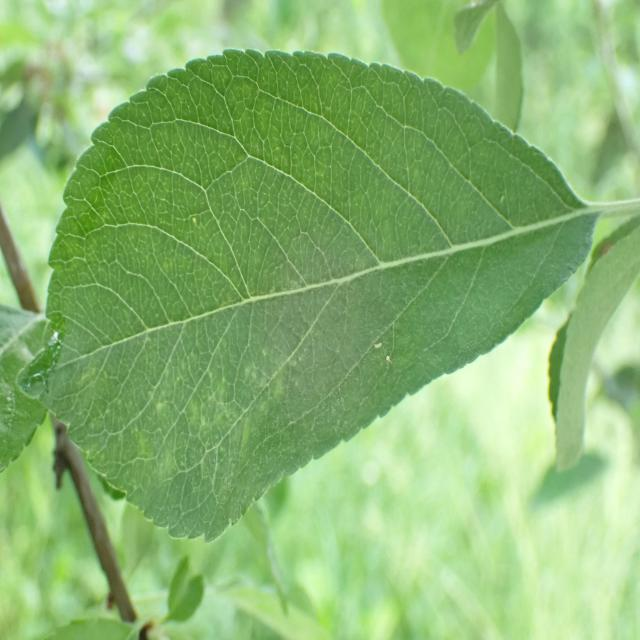scab: (65, 179, 504, 514)
